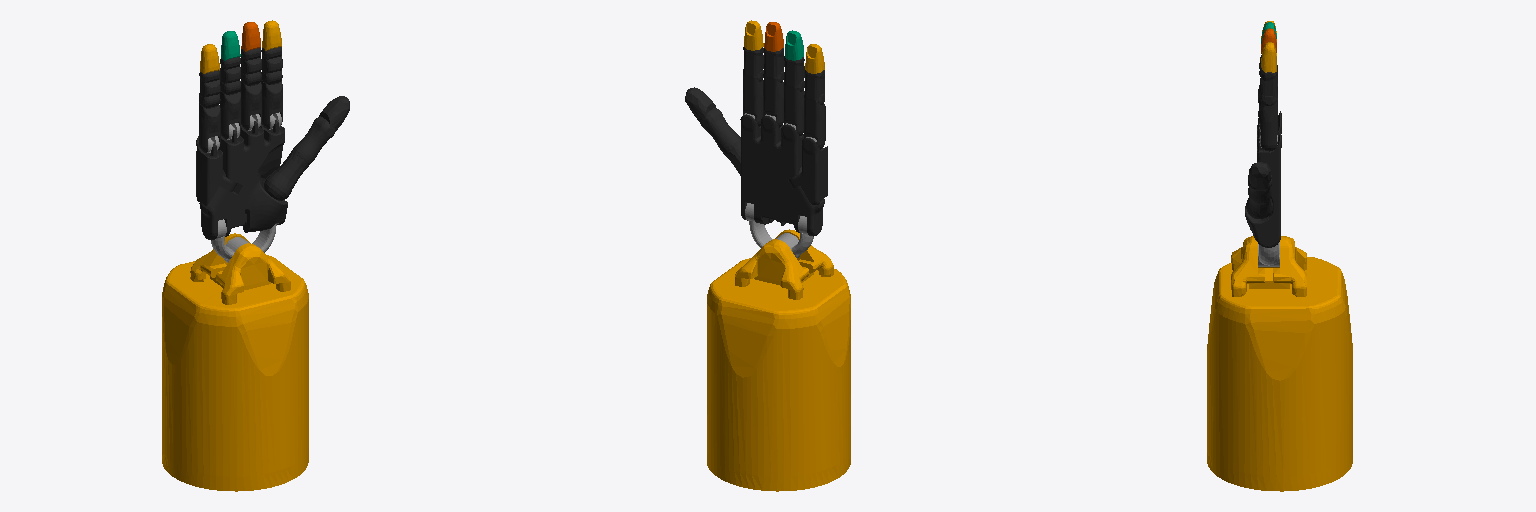
--- Render facts (derived) ---
Views: 3 orthographic renders of the robot side by side, from view 1: azimuth 30°, elevation 25°; view 2: azimuth 150°, elevation 25°; view 3: azimuth 270°, elevation 25°.
Model shadowhand_motor with 32 links and 31 joints (24 revolute, 7 fixed), rooted at rh_forearm, posed every joint at zero.
Links seen in each view (by area): view 1: rh_forearm, rh_palm, rh_lfmetacarpal, rh_thproximal, rh_wrist, rh_thmiddle, rh_lfproximal, rh_mfproximal, rh_ffproximal, rh_rfproximal, rh_mfmiddle, rh_lfmiddle (+3 smaller); view 2: rh_forearm, rh_palm, rh_lfmetacarpal, rh_wrist, rh_thmiddle, rh_lfproximal, rh_mfproximal, rh_rfproximal, rh_ffproximal, rh_thdistal, rh_mfmiddle, rh_rfmiddle (+2 smaller); view 3: rh_forearm, rh_palm, rh_ffproximal, rh_ffmiddle.
Boxes of the visible links, x1=… form: rh_forearm: x1=162, y1=233, x2=308, y2=491; rh_palm: x1=199, y1=120, x2=287, y2=240; rh_lfmetacarpal: x1=196, y1=136, x2=237, y2=205; rh_thproximal: x1=264, y1=149, x2=308, y2=200; rh_wrist: x1=211, y1=219, x2=278, y2=262; rh_thmiddle: x1=293, y1=116, x2=335, y2=164; rh_lfproximal: x1=199, y1=103, x2=220, y2=152; rh_mfproximal: x1=240, y1=81, x2=261, y2=130; rh_ffproximal: x1=261, y1=81, x2=282, y2=129; rh_rfproximal: x1=220, y1=92, x2=240, y2=139; rh_mfmiddle: x1=241, y1=48, x2=261, y2=85; rh_lfmiddle: x1=199, y1=70, x2=220, y2=108; rh_forearm: x1=707, y1=229, x2=850, y2=491; rh_palm: x1=740, y1=114, x2=824, y2=236; rh_lfmetacarpal: x1=788, y1=138, x2=827, y2=204; rh_wrist: x1=745, y1=203, x2=813, y2=257; rh_thmiddle: x1=700, y1=108, x2=740, y2=154; rh_lfproximal: x1=804, y1=99, x2=825, y2=149; rh_mfproximal: x1=763, y1=77, x2=783, y2=127; rh_rfproximal: x1=784, y1=85, x2=804, y2=135; rh_ffproximal: x1=743, y1=75, x2=762, y2=126; rh_thdistal: x1=685, y1=87, x2=715, y2=121; rh_mfmiddle: x1=763, y1=48, x2=784, y2=82; rh_rfmiddle: x1=784, y1=56, x2=804, y2=91; rh_forearm: x1=1207, y1=236, x2=1352, y2=491; rh_palm: x1=1245, y1=113, x2=1281, y2=247; rh_ffproximal: x1=1258, y1=99, x2=1277, y2=151; rh_ffmiddle: x1=1259, y1=70, x2=1277, y2=105.
Size in the robot's own frame: 0.1784 by 0.1351 by 0.4454 metres.
23 mesh visuals loaded from 11 distinct referenced files (11 binary STL).

URDF robot description (shadowhand_motor):
<?xml version="1.0" encoding="utf-8"?>
<!-- =================================================================================== -->
<!-- |    This document was autogenerated by xacro from [local-path]/projects/shadow_robot/base/src/sr_common/sr_description/robots/shadowhand_motor.urdf.xacro | -->
<!-- |    EDITING THIS FILE BY HAND IS NOT RECOMMENDED                                 | -->
<!-- =================================================================================== -->
<robot name="shadowhand_motor" xmlns:body="http://playerstage.sourceforge.net/gazebo/xmlschema/#body" xmlns:controller="http://playerstage.sourceforge.net/gazebo/xmlschema/#controller" xmlns:geom="http://playerstage.sourceforge.net/gazebo/xmlschema/#geom" xmlns:interface="http://playerstage.sourceforge.net/gazebo/xmlschema/#interface" xmlns:joint="http://playerstage.sourceforge.net/gazebo/xmlschema/#slider" xmlns:sensor="http://playerstage.sourceforge.net/gazebo/xmlschema/#sensor">
  <material name="Blue">
    <color rgba="0.0 0.0 0.8 1.0"/>
  </material>
  <material name="Green">
    <color rgba="0.0 0.8 0.0 1.0"/>
  </material>
  <material name="BiotacGreen">
    <color rgba="0.31 0.85 0.42 1.0"/>
  </material>
  <material name="Grey">
    <color rgba="0.2 0.2 0.2 1.0"/>
  </material>
  <material name="LightGrey">
    <color rgba="0.6 0.6 0.6 1.0"/>
  </material>
  <material name="Red">
    <color rgba="0.8 0.0 0.0 1.0"/>
  </material>
  <material name="White">
    <color rgba="1.0 1.0 1.0 1.0"/>
  </material>
  <gazebo>
    <plugin filename="libgazebo_ros_control.so" name="gazebo_ros_control">
      <robotSimType>sr_gazebo_sim/SrGazeboHWSim</robotSimType>
    </plugin>
  </gazebo>
  <!-- hand with cylindrical base drifts in gazebo, attach it to the world -->
  <!--<link name="world"/>
  <joint name="rh_world_joint" type="fixed">
    <parent link="world"/>
    <child link="rh_forearm"/>
    <origin rpy="0.0 0.0 0.0" xyz="0.0 0.0 0.0"/>
  </joint>-->
  <link name="rh_forearm">
    <inertial>
      <origin rpy="0 0 0" xyz="0 0 0.09"/>
      <mass value="3.0"/>
      <inertia ixx="0.0138" ixy="0.0" ixz="0.0" iyy="0.0138" iyz="0.0" izz="0.00744"/>
    </inertial>
    <visual>
      <origin rpy="0 0 0" xyz="0 0 0"/>
      <geometry name="rh_forearm_visual">
        <mesh filename="package://sr_description/meshes/hand/forearm.stl" scale="0.001 0.001 0.001"/>
      </geometry>
      <material name="light_grey"/>
    </visual>
    <collision>
      <origin rpy="0 0 0" xyz="0 0 0.092"/>
      <geometry name="rh_forearm_collision">
        <cylinder length="0.184" radius="0.07"/>
      </geometry>
      <material name="dark_grey">
        <color rgba="0.21961 0.21961 0.21961 1.0"/>
      </material>
    </collision>
    <!-- wrist mount -->
    <collision>
      <origin rpy="0 0.78 0" xyz="0 -0.01 0.181"/>
      <geometry>
        <box size="0.07 0.07 0.07"/>
      </geometry>
    </collision>
  </link>
  <gazebo reference="rh_forearm">
    <selfCollide>false</selfCollide>
  </gazebo>
  <link name="rh_wrist">
    <inertial>
      <origin rpy="0 0 0" xyz="0 0 0.029"/>
      <mass value="0.1"/>
      <inertia ixx="0.000035" ixy="0.0" ixz="0.0" iyy="0.000064" iyz="0.0" izz="0.0000438"/>
    </inertial>
    <visual>
      <origin rpy="0 0 0" xyz="0 0 0"/>
      <geometry name="rh_wrist_visual">
        <mesh filename="package://sr_description/meshes/hand/wrist.stl" scale="0.001 0.001 0.001"/>
      </geometry>
      <material name="LightGrey"/>
    </visual>
    <collision>
      <origin rpy="1.5708 1.5708 0" xyz="0 0 0"/>
      <geometry name="rh_wrist_collision_geom">
        <cylinder length="0.030" radius="0.0135"/>
      </geometry>
    </collision>
    <collision>
      <origin rpy="0 1.5708 0" xyz="-0.026 0 0.034"/>
      <geometry>
        <cylinder length="0.010" radius="0.011"/>
      </geometry>
    </collision>
    <collision>
      <origin rpy="0 1.5708 0" xyz="0.031 0 0.034"/>
      <geometry>
        <cylinder length="0.010" radius="0.011"/>
      </geometry>
    </collision>
    <collision>
      <origin rpy="0 0.7854 0" xyz="-0.021 0 0.011"/>
      <geometry>
        <box size="0.027 0.018 0.010"/>
      </geometry>
    </collision>
    <collision>
      <origin rpy="0 -0.7854 0" xyz="0.026 0 0.010"/>
      <geometry>
        <box size="0.027 0.018 0.010"/>
      </geometry>
    </collision>
  </link>
  <gazebo reference="rh_wrist">
    <material>Gazebo/White</material>
    <selfCollide>false</selfCollide>
  </gazebo>
  <joint name="rh_WRJ2" type="revolute">
    <parent link="rh_forearm"/>
    <child link="rh_wrist"/>
    <origin rpy="0 0 0" xyz="0 -0.010 0.213"/>
    <axis xyz="0 1.0 0"/>
    <limit effort="10" lower="-0.523598775598" upper="0.174532925199" velocity="2.0"/>
    <dynamics damping="0.1"/>
  </joint>
  <gazebo reference="rh_WRJ2">
    <provideFeedback>1</provideFeedback>
    <implicitSpringDamper>1</implicitSpringDamper>
  </gazebo>
  <transmission name="rh_wrist_transmission">
    <type>sr_mechanism_model/SimpleTransmission</type>
    <actuator name="rh_WRJ2">
      <mechanicalReduction>1</mechanicalReduction>
    </actuator>
    <joint name="rh_WRJ2">
      <hardwareInterface>EffortJointInterface</hardwareInterface>
      <hardwareInterface>PositionJointInterface</hardwareInterface>
    </joint>
  </transmission>
  <link name="rh_palm">
    <inertial>
      <origin rpy="0 0 0" xyz="0 0 0.035"/>
      <mass value="0.3"/>
      <inertia ixx="0.0003581" ixy="0.0" ixz="0.0" iyy="0.0005287" iyz="0.0" izz="0.000191"/>
    </inertial>
    <visual>
      <origin rpy="0 0 0" xyz="0 0 0"/>
      <geometry name="rh_palm_visual">
        <mesh filename="package://sr_description/meshes/hand/palm.stl" scale="0.001 0.001 0.001"/>
      </geometry>
      <material name="Grey"/>
    </visual>
    <collision>
      <origin rpy="0 0 0" xyz="0.011 0.0085 0.038"/>
      <geometry name="rh_palm_collision_geom">
        <box size="0.062 0.007 0.098"/>
      </geometry>
    </collision>
    <collision>
      <origin rpy="0 0 0" xyz="-0.002 -0.0035 0.038"/>
      <geometry>
        <box size="0.036 0.017 0.098"/>
      </geometry>
    </collision>
    <!-- palm complement below first finger -->
    <collision>
      <origin rpy="0 0 0" xyz="0.029 -0.0035 0.082"/>
      <geometry>
        <box size="0.026 0.017 0.010"/>
      </geometry>
    </collision>
    <collision>
      <origin rpy="0.2 0 0.25" xyz="0.0265 -0.001 0.070"/>
      <geometry>
        <box size="0.026 0.014 0.018"/>
      </geometry>
    </collision>
    <!-- thumb pulp side -->
    <collision>
      <origin rpy="0 0 0" xyz="0.0315 -0.0085 0.001"/>
      <geometry>
        <box size="0.021 0.027 0.024"/>
      </geometry>
    </collision>
    <!-- thumb pulp central -->
    <collision>
      <origin rpy="0 0 -0.48" xyz="0.0125 -0.015 0.009"/>
      <geometry>
        <box size="0.022 0.005 0.040"/>
      </geometry>
    </collision>
    <!-- above middle finger-->
    <collision>
      <origin rpy="0 0 0" xyz="0.011 0 0.089"/>
      <geometry>
        <box size="0.018 0.024 0.004"/>
      </geometry>
    </collision>
    <!-- metacarpal side-->
    <collision>
      <origin rpy="0 0 0" xyz="-0.03 0 0.009"/>
      <geometry>
        <box size="0.020 0.024 0.040"/>
      </geometry>
    </collision>
  </link>
  <joint name="rh_ee_fixed_joint" type="fixed">
    <parent link="rh_palm"/>
    <child link="rh_manipulator"/>
    <origin rpy="0.0 0.0 0.0" xyz="0.0 0.0 0.05"/>
  </joint>
  <link name="rh_manipulator"/>
  <joint name="rh_WRJ1" type="revolute">
    <parent link="rh_wrist"/>
    <child link="rh_palm"/>
    <origin rpy="0 0 0" xyz="0 0 0.034"/>
    <axis xyz="1 0 0"/>
    <limit effort="30" lower="-0.698131700798" upper="0.488692190558" velocity="2.0"/>
    <dynamics damping="0.1"/>
  </joint>
  <gazebo reference="rh_WRJ1">
    <provideFeedback>1</provideFeedback>
    <implicitSpringDamper>1</implicitSpringDamper>
  </gazebo>
  <link name="rh_imu"/>
  <joint name="rh_palm_to_imu" type="fixed">
    <parent link="rh_palm"/>
    <child link="rh_imu"/>
    <origin rpy="-1.5707963 3.141592 0.0" xyz="0.01785 0.00765 0.049125"/>
  </joint>
  <sensor name="rh_imu" update_rate="100">
    <parent link="rh_imu"/>
    <origin rpy="0 0 0" xyz="0 0 0"/>
    <imu/>
  </sensor>
  <transmission name="rh_palm_transmission">
    <type>sr_mechanism_model/SimpleTransmission</type>
    <actuator name="rh_WRJ1">
      <mechanicalReduction>1</mechanicalReduction>
    </actuator>
    <joint name="rh_WRJ1">
      <hardwareInterface>EffortJointInterface</hardwareInterface>
      <hardwareInterface>PositionJointInterface</hardwareInterface>
    </joint>
  </transmission>
  <!-- prefix can be anything but usually is "r_" or  "l_" for right and left hands distinction -->
  <gazebo reference="rh_palm">
    <sensor name="rh_palm_contact" type="contact">
      <always_on>1</always_on>
      <update_rate>1000.0</update_rate>
      <contact>
        <collision>rh_palm_collision</collision>
        <topic>rh_palm_collision</topic>
      </contact>
      <plugin filename="libgazebo_ros_bumper.so" name="rh_palm_gazebo_ros_bumper_controller">
        <alwaysOn>true</alwaysOn>
        <frameName>rh_palm</frameName>
        <updateRate>100.0</updateRate>
        <bumperTopicName>contacts/rh_palm</bumperTopicName>
      </plugin>
    </sensor>
  </gazebo>
  <link name="rh_ffknuckle">
    <inertial>
      <origin rpy="0 0 0" xyz="0 0 0"/>
      <mass value="0.008"/>
      <inertia ixx="0.00000026" ixy="0.0" ixz="0.0" iyy="0.00000026" iyz="0.0" izz="0.00000032"/>
    </inertial>
    <visual>
      <origin rpy="0 0 0" xyz="0 0 0.0005"/>
      <geometry name="rh_ffknuckle_visual">
        <mesh filename="package://sr_description/meshes/hand/knuckle.stl" scale="0.001 0.001 0.001"/>
      </geometry>
      <material name="LightGrey"/>
    </visual>
    <collision>
      <origin rpy="0 1.5708 0" xyz="0 0 0"/>
      <geometry name="rh_ffknuckle_collision_geom">
        <cylinder length="0.014" radius="0.007"/>
      </geometry>
    </collision>
  </link>
  <joint name="rh_FFJ4" type="revolute">
    <parent link="rh_palm"/>
    <child link="rh_ffknuckle"/>
    <!--<origin xyz="0.033 0 0.095" rpy="0 0 0" />-->
    <origin rpy="0 0 0" xyz="0.033 0 0.095"/>
    <axis xyz="0 -1.0 0"/>
    <limit effort="2" lower="-0.349065850399" upper="0.349065850399" velocity="2.0"/>
    <dynamics damping="0.1"/>
  </joint>
  <gazebo reference="rh_FFJ4">
    <provideFeedback>1</provideFeedback>
    <implicitSpringDamper>1</implicitSpringDamper>
  </gazebo>
  <transmission name="rh_ffknuckle_transmission">
    <type>sr_mechanism_model/SimpleTransmission</type>
    <actuator name="rh_FFJ4">
      <mechanicalReduction>1</mechanicalReduction>
    </actuator>
    <joint name="rh_FFJ4">
      <hardwareInterface>EffortJointInterface</hardwareInterface>
      <hardwareInterface>PositionJointInterface</hardwareInterface>
    </joint>
  </transmission>
  <!-- prefix can be anything but usually is "r_" or  "l_" for right and left hands distinction -->
  <gazebo reference="rh_ffknuckle">
    <sensor name="rh_ffknuckle_contact" type="contact">
      <always_on>1</always_on>
      <update_rate>1000.0</update_rate>
      <contact>
        <collision>rh_ffknuckle_collision</collision>
        <topic>rh_ffknuckle_collision</topic>
      </contact>
      <plugin filename="libgazebo_ros_bumper.so" name="rh_ffknuckle_gazebo_ros_bumper_controller">
        <alwaysOn>true</alwaysOn>
        <frameName>rh_ffknuckle</frameName>
        <updateRate>100.0</updateRate>
        <bumperTopicName>contacts/rh_ff/knuckle</bumperTopicName>
      </plugin>
    </sensor>
    <material>Gazebo/Grey</material>
  </gazebo>
  <link name="rh_ffproximal">
    <inertial>
      <mass value="0.030"/>
      <origin xyz="0 0 0.0225"/>
      <inertia ixx="0.0000098" ixy="0.0" ixz="0.0" iyy="0.00001" iyz="0.0" izz="0.0000018"/>
    </inertial>
    <visual>
      <origin rpy="0 0 0" xyz="0 0 0"/>
      <geometry name="rh_ffproximal_visual">
        <mesh filename="package://sr_description/meshes/hand/F3.stl" scale="0.001 0.001 0.001"/>
      </geometry>
      <material name="Grey"/>
    </visual>
    <collision>
      <origin rpy="0 0 0" xyz="0 0 0.025"/>
      <geometry name="rh_ffproximal_collision_geom">
        <cylinder length="0.040" radius="0.007"/>
      </geometry>
    </collision>
  </link>
  <joint name="rh_FFJ3" type="revolute">
    <parent link="rh_ffknuckle"/>
    <child link="rh_ffproximal"/>
    <origin rpy="0 0 0" xyz="0 0 0"/>
    <axis xyz="1 0 0"/>
    <limit effort="2" lower="-0.261799387799" upper="1.57079632679" velocity="2.0"/>
    <dynamics damping="0.1"/>
  </joint>
  <gazebo reference="rh_FFJ3">
    <provideFeedback>1</provideFeedback>
    <implicitSpringDamper>1</implicitSpringDamper>
  </gazebo>
  <transmission name="rh_ffproximal_transmission">
    <type>sr_mechanism_model/SimpleTransmission</type>
    <actuator name="rh_FFJ3">
      <mechanicalReduction>1</mechanicalReduction>
    </actuator>
    <joint name="rh_FFJ3">
      <hardwareInterface>EffortJointInterface</hardwareInterface>
      <hardwareInterface>PositionJointInterface</hardwareInterface>
    </joint>
  </transmission>
  <!-- prefix can be anything but usually is "r_" or  "l_" for right and left hands distinction -->
  <gazebo reference="rh_ffproximal">
    <sensor name="rh_ffproximal_contact" type="contact">
      <always_on>1</always_on>
      <update_rate>1000.0</update_rate>
      <contact>
        <collision>rh_ffproximal_collision</collision>
        <topic>rh_ffproximal_collision</topic>
      </contact>
      <plugin filename="libgazebo_ros_bumper.so" name="rh_ffproximal_gazebo_ros_bumper_controller">
        <alwaysOn>true</alwaysOn>
        <frameName>rh_ffproximal</frameName>
        <updateRate>100.0</updateRate>
        <bumperTopicName>contacts/rh_ff/proximal</bumperTopicName>
      </plugin>
    </sensor>
    <selfCollide>true</selfCollide>
  </gazebo>
  <link name="rh_ffmiddle">
    <inertial>
      <origin rpy="0 0 0" xyz="0 0 0.0125"/>
      <mass value="0.017"/>
      <inertia ixx="0.0000026" ixy="0.0" ixz="0.0" iyy="0.0000027" iyz="0.0" izz="0.00000087"/>
    </inertial>
    <visual>
      <origin rpy="0 0 0" xyz="0 0 0"/>
      <geometry name="rh_ffmiddle_visual">
        <mesh filename="package://sr_description/meshes/hand/F2.stl" scale="0.001 0.001 0.001"/>
      </geometry>
      <material name="Grey"/>
    </visual>
    <collision>
      <origin rpy="0 0 0" xyz="0 0 0.0125"/>
      <geometry name="rh_ffmiddle_collision_geom">
        <cylinder length="0.025" radius="0.007"/>
      </geometry>
    </collision>
    <collision>
      <origin rpy="0 0 0" xyz="0 0 0.0"/>
      <geometry>
        <sphere radius="0.007"/>
      </geometry>
    </collision>
    <collision>
      <origin rpy="0 0 0" xyz="0 0 0.025"/>
      <geometry>
        <sphere radius="0.007"/>
      </geometry>
    </collision>
  </link>
  <joint name="rh_FFJ2" type="revolute">
    <parent link="rh_ffproximal"/>
    <child link="rh_ffmiddle"/>
    <origin rpy="0 0 0" xyz="0 0 0.045"/>
    <axis xyz="1 0 0"/>
    <limit effort="2" lower="0" upper="1.57079632679" velocity="2.0"/>
    <dynamics damping="0.1"/>
  </joint>
  <gazebo reference="rh_FFJ2">
    <provideFeedback>1</provideFeedback>
    <implicitSpringDamper>1</implicitSpringDamper>
  </gazebo>
  <transmission name="rh_ffmiddle_transmission">
    <type>sr_mechanism_model/J0Transmission</type>
    <actuator name="rh_FFJ0">
      <mechanicalReduction>1</mechanicalReduction>
    </actuator>
    <joint name="rh_FFJ1">
      <hardwareInterface>EffortJointInterface</hardwareInterface>
      <hardwareInterface>PositionJointInterface</hardwareInterface>
    </joint>
    <secondJoint name="rh_FFJ2"/>
  </transmission>
  <!-- prefix can be anything but usually is "r_" or  "l_" for right and left hands distinction -->
  <gazebo reference="rh_ffmiddle">
    <sensor name="rh_ffmiddle_contact" type="contact">
      <always_on>1</always_on>
      <update_rate>1000.0</update_rate>
      <contact>
        <collision>rh_ffmiddle_collision</collision>
        <topic>rh_ffmiddle_collision</topic>
      </contact>
      <plugin filename="libgazebo_ros_bumper.so" name="rh_ffproximal_gazebo_ros_bumper_controller">
        <alwaysOn>true</alwaysOn>
        <frameName>rh_ffmiddle</frameName>
        <updateRate>100.0</updateRate>
        <bumperTopicName>contacts/rh_ff/middle</bumperTopicName>
      </plugin>
    </sensor>
    <selfCollide>true</selfCollide>
  </gazebo>
  <link name="rh_ffdistal">
    <inertial>
      <mass value="0.012"/>
      <origin xyz="0 0 0.012"/>
      <inertia ixx="0.00000094" ixy="0.0" ixz="0.0" iyy="0.0000011" iyz="0.0" izz="0.00000053"/>
    </inertial>
    <visual>
      <origin rpy="0 0 0" xyz="0 0 0"/>
      <geometry name="rh_ffdistal_visual">
        <!-- Standard distal  -->
        <mesh filename="package://sr_description/meshes/hand/F1.stl" scale="0.001 0.001 0.001"/>
      </geometry>
      <!-- <material name="Grey" /> -->
    </visual>
    <collision>
      <origin rpy="0 0 0" xyz="0 0 0"/>
      <geometry name="rh_ffdistal_collision_geom">
        <!-- Standard distal  -->
        <mesh filename="package://sr_description/meshes/hand/F1.stl" scale="0.001 0.001 0.001"/>
      </geometry>
    </collision>
  </link>
  <joint name="rh_FFJ1" type="revolute">
    <parent link="rh_ffmiddle"/>
    <child link="rh_ffdistal"/>
    <origin rpy="0 0 0" xyz="0 0 0.025"/>
    <axis xyz="1 0 0"/>
    <!-- standard distal joint -->
    <limit effort="2" lower="0" upper="1.57079632679" velocity="2.0"/>
    <dynamics damping="0.1"/>
  </joint>
  <gazebo reference="rh_FFJ1">
    <provideFeedback>1</provideFeedback>
    <implicitSpringDamper>1</implicitSpringDamper>
  </gazebo>
  <link name="rh_fftip">
    <inertial>
      <mass value="0.001"/>
      <inertia ixx="0.0" ixy="0.0" ixz="0.0" iyy="0.0" iyz="0.0" izz="0.0"/>
    </inertial>
  </link>
  <joint name="rh_FFtip" type="fixed">
    <parent link="rh_ffdistal"/>
    <child link="rh_fftip"/>
    <origin rpy="0 0 0" xyz="0 0 0.026"/>
  </joint>
  <!-- prefix can be anything but usually is "r_" or  "l_" for right and left hands distinction -->
  <gazebo reference="rh_ffdistal">
    <sensor name="rh_ffdistal_contact" type="contact">
      <always_on>1</always_on>
      <update_rate>1000.0</update_rate>
      <contact>
        <collision>rh_ffdistal_collision</collision>
        <topic>rh_ffdistal_collision</topic>
      </contact>
      <plugin filename="libgazebo_ros_bumper.so" name="rh_ffdistal_gazebo_ros_bumper_controller">
        <alwaysOn>true</alwaysOn>
        <frameName>rh_ffdistal</frameName>
        <updateRate>100.0</updateRate>
        <bumperTopicName>contacts/rh_ff/distal</bumperTopicName>
      </plugin>
    </sensor>
    <mu1 value="500.0"/>
    <mu2 value="500.0"/>
    <kp value="10000000.0"/>
    <kd value="1.0"/>
    <selfCollide>true</selfCollide>
  </gazebo>
  <link name="rh_mfknuckle">
    <inertial>
      <origin rpy="0 0 0" xyz="0 0 0"/>
      <mass value="0.008"/>
      <inertia ixx="0.00000026" ixy="0.0" ixz="0.0" iyy="0.00000026" iyz="0.0" izz="0.00000032"/>
    </inertial>
    <visual>
      <origin rpy="0 0 0" xyz="0 0 0.0005"/>
      <geometry name="rh_mfknuckle_visual">
        <mesh filename="package://sr_description/meshes/hand/knuckle.stl" scale="0.001 0.001 0.001"/>
      </geometry>
      <material name="LightGrey"/>
    </visual>
    <collision>
      <origin rpy="0 1.5708 0" xyz="0 0 0"/>
      <geometry name="rh_mfknuckle_collision_geom">
        <cylinder length="0.014" radius="0.007"/>
      </geometry>
    </collision>
  </link>
  <joint name="rh_MFJ4" type="revolute">
    <parent link="rh_palm"/>
    <child link="rh_mfknuckle"/>
    <!--<origin xyz="0.033 0 0.095" rpy="0 0 0" />-->
    <origin rpy="0 0 0" xyz="0.011 0 0.099"/>
    <axis xyz="0 -1.0 0"/>
    <limit effort="2" lower="-0.349065850399" upper="0.349065850399" velocity="2.0"/>
    <dynamics damping="0.1"/>
  </joint>
  <gazebo reference="rh_MFJ4">
    <provideFeedback>1</provideFeedback>
    <implicitSpringDamper>1</implicitSpringDamper>
  </gazebo>
  <transmission name="rh_mfknuckle_transmission">
    <type>sr_mechanism_model/SimpleTransmission</type>
    <actuator name="rh_MFJ4">
      <mechanicalReduction>1</mechanicalReduction>
    </actuator>
    <joint name="rh_MFJ4">
      <hardwareInterface>EffortJointInterface</hardwareInterface>
      <hardwareInterface>PositionJointInterface</hardwareInterface>
    </joint>
  </transmission>
  <!-- prefix can be anything but usually is "r_" or  "l_" for right and left hands distinction -->
  <gazebo reference="rh_mfknuckle">
    <sensor name="rh_mfknuckle_contact" type="contact">
      <always_on>1</always_on>
      <update_rate>1000.0</update_rate>
      <contact>
        <collision>rh_mfknuckle_collision</collision>
        <topic>rh_mfknuckle_collision</topic>
      </contact>
      <plugin filename="libgazebo_ros_bumper.so" name="rh_mfknuckle_gazebo_ros_bumper_controller">
        <alwaysOn>true</alwaysOn>
        <frameName>rh_mfknuckle</frameName>
        <updateRate>100.0</updateRate>
        <bumperTopicName>contacts/rh_mf/knuckle</bumperTopicName>
      </plugin>
    </sensor>
    <material>Gazebo/Grey</material>
  </gazebo>
  <link name="rh_mfproximal">
    <inertial>
      <mass value="0.030"/>
      <origin xyz="0 0 0.0225"/>
      <inertia ixx="0.0000098" ixy="0.0" ixz="0.0" iyy="0.00001" iyz="0.0" izz="0.0000018"/>
    </inertial>
    <visual>
      <origin rpy="0 0 0" xyz="0 0 0"/>
      <geometry name="rh_mfproximal_visual">
        <mesh filename="package://sr_description/meshes/hand/F3.stl" scale="0.001 0.001 0.001"/>
      </geometry>
      <material name="Grey"/>
    </visual>
    <collision>
      <origin rpy="0 0 0" xyz="0 0 0.025"/>
      <geometry name="rh_mfproximal_collision_geom">
        <cylinder length="0.040" radius="0.007"/>
      </geometry>
    </collision>
  </link>
  <joint name="rh_MFJ3" type="revolute">
    <parent link="rh_mfknuckle"/>
    <child link="rh_mfproximal"/>
    <origin rpy="0 0 0" xyz="0 0 0"/>
    <axis xyz="1 0 0"/>
    <limit effort="2" lower="-0.261799387799" upper="1.57079632679" velocity="2.0"/>
    <dynamics damping="0.1"/>
  </joint>
  <gazebo reference="rh_MFJ3">
    <provideFeedback>1</provideFeedback>
    <implicitSpringDamper>1</implicitSpringDamper>
  </gazebo>
  <transmission name="rh_mfproximal_transmission">
    <type>sr_mechanism_model/SimpleTransmission</type>
    <actuator name="rh_MFJ3">
      <mechanicalReduction>1</mechanicalReduction>
    </actuator>
    <joint name="rh_MFJ3">
      <hardwareInterface>EffortJointInterface</hardwareInterface>
      <hardwareInterface>PositionJointInterface</hardwareInterface>
    </joint>
  </transmission>
  <!-- prefix can be anything but usually is "r_" or  "l_" for right and left hands distinction -->
  <gazebo reference="rh_mfproximal">
    <sensor name="rh_mfproximal_contact" type="contact">
      <always_on>1</always_on>
      <update_rate>1000.0</update_rate>
      <contact>
        <collision>rh_mfproximal_collision</collision>
        <topic>rh_mfproximal_collision</topic>
      </contact>
      <plugin filename="libgazebo_ros_bumper.so" name="rh_mfproximal_gazebo_ros_bumper_controller">
        <alwaysOn>true</alwaysOn>
        <frameName>rh_mfproximal</frameName>
        <updateRate>100.0</updateRate>
        <bumperTopicName>contacts/rh_mf/proximal</bumperTopicName>
      </plugin>
    </sensor>
    <selfCollide>true</selfCollide>
  </gazebo>
  <link name="rh_mfmiddle">
    <inertial>
      <origin rpy="0 0 0" xyz="0 0 0.0125"/>
      <mass value="0.017"/>
      <inertia ixx="0.0000026" ixy="0.0" ixz="0.0" iyy="0.0000027" iyz="0.0" izz="0.00000087"/>
    </inertial>
    <visual>
      <origin rpy="0 0 0" xyz="0 0 0"/>
      <geometry name="rh_mfmiddle_visual">
        <mesh filename="package://sr_description/meshes/hand/F2.stl" scale="0.001 0.001 0.001"/>
      </geometry>
      <material name="Grey"/>
    </visual>
    <collision>
      <origin rpy="0 0 0" xyz="0 0 0.0125"/>
      <geometry name="rh_mfmiddle_collision_geom">
        <cylinder length="0.025" radius="0.007"/>
      </geometry>
    </collision>
    <collision>
      <origin rpy="0 0 0" xyz="0 0 0.0"/>
      <geometry>
        <sphere radius="0.007"/>
      </geometry>
    </collision>
    <collision>
      <origin rpy="0 0 0" xyz="0 0 0.025"/>
      <geometry>
        <sphere radius="0.007"/>
      </geometry>
    </collision>
  </link>
  <joint name="rh_MFJ2" type="revolute">
    <parent link="rh_mfproximal"/>
    <child link="rh_mfmiddle"/>
    <origin rpy="0 0 0" xyz="0 0 0.045"/>
    <axis xyz="1 0 0"/>
    <limit effort="2" lower="0" upper="1.57079632679" velocity="2.0"/>
    <dynamics damping="0.1"/>
  </joint>
  <gazebo reference="rh_MFJ2">
    <provideFeedback>1</provideFeedback>
    <implicitSpringDamper>1</implicitSpringDamper>
  </gazebo>
  <transmission name="rh_mfmiddle_transmission">
    <type>sr_mechanism_model/J0Transmission</type>
    <actuator name="rh_MFJ0">
      <mechanicalReduction>1</mechanicalReduction>
    </actuator>
    <joint name="rh_MFJ1">
      <hardwareInterface>EffortJointInterface</hardwareInterface>
      <hardwareInterface>PositionJointInterface</hardwareInterface>
    </joint>
    <secondJoint name="rh_MFJ2"/>
  </transmission>
  <!-- prefix can be anything but usually is "r_" or  "l_" for right and left hands distinction -->
  <gazebo reference="rh_mfmiddle">
    <sensor name="rh_mfmiddle_contact" type="contact">
      <always_on>1</always_on>
      <update_rate>1000.0</update_rate>
      <contact>
        <collision>rh_mfmiddle_collision</collision>
        <topic>rh_mfmiddle_collision</topic>
      </contact>
      <plugin filename="libgazebo_ros_bumper.so" name="rh_mfproximal_gazebo_ros_bumper_controller">
        <alwaysOn>true</alwaysOn>
        <frameName>rh_mfmiddle</frameName>
        <updateRate>100.0</updateRate>
        <bumperTopicName>contacts/rh_mf/middle</bumperTopicName>
      </plugin>
    </sensor>
    <selfCollide>true</selfCollide>
  </gazebo>
  <link name="rh_mfdistal">
    <inertial>
      <mass value="0.012"/>
      <origin xyz="0 0 0.012"/>
      <inertia ixx="0.00000094" ixy="0.0" ixz="0.0" iyy="0.0000011" iyz="0.0" izz="0.00000053"/>
    </inertial>
    <visual>
      <origin rpy="0 0 0" xyz="0 0 0"/>
      <geometry name="rh_mfdistal_visual">
        <!-- Standard distal  -->
        <mesh filename="package://sr_description/meshes/hand/F1.stl" scale="0.001 0.001 0.001"/>
      </geometry>
      <!-- <material name="Grey" /> -->
    </visual>
    <collision>
      <origin rpy="0 0 0" xyz="0 0 0"/>
      <geometry name="rh_mfdistal_collision_geom">
        <!-- Standard distal  -->
        <mesh filename="package://sr_description/meshes/hand/F1.stl" scale="0.001 0.001 0.001"/>
      </geometry>
    </collision>
  </link>
  <joint name="rh_MFJ1" type="revolute">
    <parent link="rh_mfmiddle"/>
    <child link="rh_mfdistal"/>
    <origin rpy="0 0 0" xyz="0 0 0.025"/>
    <axis xyz="1 0 0"/>
    <!-- standard distal joint -->
    <limit effort="2" lower="0" upper="1.57079632679" velocity="2.0"/>
    <dynamics damping="0.1"/>
  </joint>
  <gazebo reference="rh_MFJ1">
    <provideFeedback>1</provideFeedback>
    <implicitSpringDamper>1</implicitSpringDamper>
  </gazebo>
  <link name="rh_mftip">
    <inertial>
      <mass value="0.001"/>
      <inertia ixx="0.0" ixy="0.0" ixz="0.0" iyy="0.0" iyz="0.0" izz="0.0"/>
    </inertial>
  </link>
  <joint name="rh_MFtip" type="fixed">
    <parent link="rh_mfdistal"/>
    <child link="rh_mftip"/>
    <origin rpy="0 0 0" xyz="0 0 0.026"/>
  </joint>
  <!-- prefix can be anything but usually is "r_" or  "l_" for right and left hands distinction -->
  <gazebo reference="rh_mfdistal">
    <sensor name="rh_mfdistal_contact" type="contact">
      <always_on>1</always_on>
      <update_rate>1000.0</update_rate>
      <contact>
        <collision>rh_mfdistal_collision</collision>
        <topic>rh_mfdistal_collision</topic>
      </contact>
      <plugin filename="libgazebo_ros_bumper.so" name="rh_mfdistal_gazebo_ros_bumper_controller">
        <alwaysOn>true</alwaysOn>
        <frameName>rh_mfdistal</frameName>
        <updateRate>100.0</updateRate>
        <bumperTopicName>contacts/rh_mf/distal</bumperTopicName>
      </plugin>
    </sensor>
    <mu1 value="500.0"/>
    <mu2 value="500.0"/>
    <kp value="10000000.0"/>
    <kd value="1.0"/>
    <selfCollide>true</selfCollide>
  </gazebo>
  <link name="rh_rfknuckle">
    <inertial>
      <origin rpy="0 0 0" xyz="0 0 0"/>
      <mass value="0.008"/>
      <inertia ixx="0.00000026" ixy="0.0" ixz="0.0" iyy="0.00000026" iyz="0.0" izz="0.00000032"/>
    </inertial>
    <visual>
      <origin rpy="0 0 0" xyz="0 0 0.0005"/>
      <geometry name="rh_rfknuckle_visual">
        <mesh filename="package://sr_description/meshes/hand/knuckle.stl" scale="0.001 0.001 0.001"/>
      </geometry>
      <material name="LightGrey"/>
    </visual>
    <collision>
      <origin rpy="0 1.5708 0" xyz="0 0 0"/>
      <geometry name="rh_rfknuckle_collision_geom">
        <cylinder length="0.014" radius="0.007"/>
      </geometry>
    </collision>
  </link>
  <joint name="rh_RFJ4" type="revolute">
    <parent link="rh_palm"/>
    <child link="rh_rfknuckle"/>
    <!--<origin xyz="0.033 0 0.095" rpy="0 0 0" />-->
    <origin rpy="0 0 0" xyz="-0.011 0 0.095"/>
    <axis xyz="0 1.0 0"/>
    <limit effort="2" lower="-0.349065850399" upper="0.349065850399" velocity="2.0"/>
    <dynamics damping="0.1"/>
  </joint>
  <gazebo reference="rh_RFJ4">
    <provideFeedback>1</provideFeedback>
    <implicitSpringDamper>1</implicitSpringDamper>
  </gazebo>
  <transmission name="rh_rfknuckle_transmission">
    <type>sr_mechanism_model/SimpleTransmission</type>
    <actuator name="rh_RFJ4">
      <mechanicalReduction>1</mechanicalReduction>
    </actuator>
    <joint name="rh_RFJ4">
      <hardwareInterface>EffortJointInterface</hardwareInterface>
      <hardwareInterface>PositionJointInterface</hardwareInterface>
    </joint>
  </transmission>
  <!-- prefix can be anything but usually is "r_" or  "l_" for right and left hands distinction -->
  <gazebo reference="rh_rfknuckle">
    <sensor name="rh_rfknuckle_contact" type="contact">
      <always_on>1</always_on>
      <update_rate>1000.0</update_rate>
      <contact>
        <collision>rh_rfknuckle_collision</collision>
        <topic>rh_rfknuckle_collision</topic>
      </contact>
      <plugin filename="libgazebo_ros_bumper.so" name="rh_rfknuckle_gazebo_ros_bumper_controller">
        <alwaysOn>true</alwaysOn>
        <frameName>rh_rfknuckle</frameName>
        <updateRate>100.0</updateRate>
        <bumperTopicName>contacts/rh_rf/knuckle</bumperTopicName>
      </plugin>
    </sensor>
    <material>Gazebo/Grey</material>
  </gazebo>
  <link name="rh_rfproximal">
    <inertial>
      <mass value="0.030"/>
      <origin xyz="0 0 0.0225"/>
      <inertia ixx="0.0000098" ixy="0.0" ixz="0.0" iyy="0.00001" iyz="0.0" izz="0.0000018"/>
    </inertial>
    <visual>
      <origin rpy="0 0 0" xyz="0 0 0"/>
      <geometry name="rh_rfproximal_visual">
        <mesh filename="package://sr_description/meshes/hand/F3.stl" scale="0.001 0.001 0.001"/>
      </geometry>
      <material name="Grey"/>
    </visual>
    <collision>
      <origin rpy="0 0 0" xyz="0 0 0.025"/>
      <geometry name="rh_rfproximal_collision_geom">
        <cylinder length="0.040" radius="0.007"/>
      </geometry>
    </collision>
  </link>
  <joint name="rh_RFJ3" type="revolute">
    <parent link="rh_rfknuckle"/>
    <child link="rh_rfproximal"/>
    <origin rpy="0 0 0" xyz="0 0 0"/>
    <axis xyz="1 0 0"/>
    <limit effort="2" lower="-0.261799387799" upper="1.57079632679" velocity="2.0"/>
    <dynamics damping="0.1"/>
  </joint>
  <gazebo reference="rh_RFJ3">
    <provideFeedback>1</provideFeedback>
    <implicitSpringDamper>1</implicitSpringDamper>
  </gazebo>
  <transmission name="rh_rfproximal_transmission">
    <type>sr_mechanism_model/SimpleTransmission</type>
    <actuator name="rh_RFJ3">
      <mechanicalReduction>1</mechanicalReduction>
    </actuator>
    <joint name="rh_RFJ3">
      <hardwareInterface>EffortJointInterface</hardwareInterface>
      <hardwareInterface>PositionJointInterface</hardwareInterface>
    </joint>
  </transmission>
  <!-- prefix can be anything but usually is "r_" or  "l_" for right and left hands distinction -->
  <gazebo reference="rh_rfproximal">
    <sensor name="rh_rfproximal_contact" type="contact">
      <always_on>1</always_on>
      <update_rate>1000.0</update_rate>
      <contact>
        <collision>rh_rfproximal_collision</collision>
        <topic>rh_rfproximal_collision</topic>
      </contact>
      <plugin filename="libgazebo_ros_bumper.so" name="rh_rfproximal_gazebo_ros_bumper_controller">
        <alwaysOn>true</alwaysOn>
        <frameName>rh_rfproximal</frameName>
        <updateRate>100.0</updateRate>
        <bumperTopicName>contacts/rh_rf/proximal</bumperTopicName>
      </plugin>
    </sensor>
    <selfCollide>true</selfCollide>
  </gazebo>
  <link name="rh_rfmiddle">
    <inertial>
      <origin rpy="0 0 0" xyz="0 0 0.0125"/>
      <mass value="0.017"/>
      <inertia ixx="0.0000026" ixy="0.0" ixz="0.0" iyy="0.0000027" iyz="0.0" izz="0.00000087"/>
    </inertial>
    <visual>
      <origin rpy="0 0 0" xyz="0 0 0"/>
      <geometry name="rh_rfmiddle_visual">
        <mesh filename="package://sr_description/meshes/hand/F2.stl" scale="0.001 0.001 0.001"/>
      </geometry>
      <material name="Grey"/>
    </visual>
    <collision>
      <origin rpy="0 0 0" xyz="0 0 0.0125"/>
      <geometry name="rh_rfmiddle_collision_geom">
        <cylinder length="0.025" radius="0.007"/>
      </geometry>
    </collision>
    <collision>
      <origin rpy="0 0 0" xyz="0 0 0.0"/>
      <geometry>
        <sphere radius="0.007"/>
      </geometry>
    </collision>
    <collision>
      <origin rpy="0 0 0" xyz="0 0 0.025"/>
      <geometry>
        <sphere radius="0.007"/>
      </geometry>
    </collision>
  </link>
  <joint name="rh_RFJ2" type="revolute">
    <parent link="rh_rfproximal"/>
    <child link="rh_rfmiddle"/>
    <origin rpy="0 0 0" xyz="0 0 0.045"/>
    <axis xyz="1 0 0"/>
    <limit effort="2" lower="0" upper="1.57079632679" velocity="2.0"/>
    <dynamics damping="0.1"/>
  </joint>
  <gazebo reference="rh_RFJ2">
    <provideFeedback>1</provideFeedback>
    <implicitSpringDamper>1</implicitSpringDamper>
  </gazebo>
  <transmission name="rh_rfmiddle_transmission">
    <type>sr_mechanism_model/J0Transmission</type>
    <actuator name="rh_RFJ0">
      <mechanicalReduction>1</mechanicalReduction>
    </actuator>
    <joint name="rh_RFJ1">
      <hardwareInterface>EffortJointInterface</hardwareInterface>
      <hardwareInterface>PositionJointInterface</hardwareInterface>
    </joint>
    <secondJoint name="rh_RFJ2"/>
  </transmission>
  <!-- prefix can be anything but usually is "r_" or  "l_" for right and left hands distinction -->
  <gazebo reference="rh_rfmiddle">
    <sensor name="rh_rfmiddle_contact" type="contact">
      <always_on>1</always_on>
      <update_rate>1000.0</update_rate>
      <contact>
        <collision>rh_rfmiddle_collision</collision>
        <topic>rh_rfmiddle_collision</topic>
      </contact>
      <plugin filename="libgazebo_ros_bumper.so" name="rh_rfproximal_gazebo_ros_bumper_controller">
        <alwaysOn>true</alwaysOn>
        <frameName>rh_rfmiddle</frameName>
        <updateRate>100.0</updateRate>
        <bumperTopicName>contacts/rh_rf/middle</bumperTopicName>
      </plugin>
    </sensor>
    <selfCollide>true</selfCollide>
  </gazebo>
  <link name="rh_rfdistal">
    <inertial>
      <mass value="0.012"/>
      <origin xyz="0 0 0.012"/>
      <inertia ixx="0.00000094" ixy="0.0" ixz="0.0" iyy="0.0000011" iyz="0.0" izz="0.00000053"/>
    </inertial>
    <visual>
      <origin rpy="0 0 0" xyz="0 0 0"/>
      <geometry name="rh_rfdistal_visual">
        <!-- Standard distal  -->
        <mesh filename="package://sr_description/meshes/hand/F1.stl" scale="0.001 0.001 0.001"/>
      </geometry>
      <!-- <material name="Grey" /> -->
    </visual>
    <collision>
      <origin rpy="0 0 0" xyz="0 0 0"/>
      <geometry name="rh_rfdistal_collision_geom">
        <!-- Standard distal  -->
        <mesh filename="package://sr_description/meshes/hand/F1.stl" scale="0.001 0.001 0.001"/>
      </geometry>
    </collision>
  </link>
  <joint name="rh_RFJ1" type="revolute">
    <parent link="rh_rfmiddle"/>
    <child link="rh_rfdistal"/>
    <origin rpy="0 0 0" xyz="0 0 0.025"/>
    <axis xyz="1 0 0"/>
    <!-- standard distal joint -->
    <limit effort="2" lower="0" upper="1.57079632679" velocity="2.0"/>
    <dynamics damping="0.1"/>
  </joint>
  <gazebo reference="rh_RFJ1">
    <provideFeedback>1</provideFeedback>
    <implicitSpringDamper>1</implicitSpringDamper>
  </gazebo>
  <link name="rh_rftip">
    <inertial>
      <mass value="0.001"/>
      <inertia ixx="0.0" ixy="0.0" ixz="0.0" iyy="0.0" iyz="0.0" izz="0.0"/>
    </inertial>
  </link>
  <joint name="rh_RFtip" type="fixed">
    <parent link="rh_rfdistal"/>
    <child link="rh_rftip"/>
    <origin rpy="0 0 0" xyz="0 0 0.026"/>
  </joint>
  <!-- prefix can be anything but usually is "r_" or  "l_" for right and left hands distinction -->
  <gazebo reference="rh_rfdistal">
    <sensor name="rh_rfdistal_contact" type="contact">
      <always_on>1</always_on>
      <update_rate>1000.0</update_rate>
      <contact>
        <collision>rh_rfdistal_collision</collision>
        <topic>rh_rfdistal_collision</topic>
      </contact>
      <plugin filename="libgazebo_ros_bumper.so" name="rh_rfdistal_gazebo_ros_bumper_controller">
        <alwaysOn>true</alwaysOn>
        <frameName>rh_rfdistal</frameName>
        <updateRate>100.0</updateRate>
        <bumperTopicName>contacts/rh_rf/distal</bumperTopicName>
      </plugin>
    </sensor>
    <mu1 value="500.0"/>
    <mu2 value="500.0"/>
    <kp value="10000000.0"/>
    <kd value="1.0"/>
    <selfCollide>true</selfCollide>
  </gazebo>
  <link name="rh_lfmetacarpal">
    <inertial>
      <origin rpy="0 0 0" xyz="0 0 0.04"/>
      <mass value="0.030"/>
      <inertia ixx="0.0000145" ixy="0.0" ixz="0.0" iyy="0.00001638" iyz="0.0" izz="0.000004272"/>
    </inertial>
    <visual>
      <origin rpy="0 0 0" xyz="0 0 0"/>
      <geometry name="rh_lfmetacarpal_visual">
        <mesh filename="package://sr_description/meshes/hand/lfmetacarpal.stl" scale="0.001 0.001 0.001"/>
      </geometry>
      <material name="Grey"/>
    </visual>
    <collision>
      <origin rpy="0 0 0" xyz="0 0 0.038"/>
      <geometry name="rh_lfmetacarpal_collision_geom">
        <box size="0.018 0.024 0.040"/>
      </geometry>
    </collision>
  </link>
  <joint name="rh_LFJ5" type="revolute">
    <parent link="rh_palm"/>
    <child link="rh_lfmetacarpal"/>
    <origin rpy="0 0 0" xyz="-0.033 0 0.02071"/>
    <axis xyz="0.573576436 0 0.819152044"/>
    <limit effort="2" lower="0" upper="0.785398163397" velocity="2.0"/>
    <dynamics damping="0.1"/>
  </joint>
  <gazebo reference="rh_LFJ5">
    <provideFeedback>1</provideFeedback>
    <implicitSpringDamper>1</implicitSpringDamper>
  </gazebo>
  <transmission name="rh_lfmetacarpal_transmission">
    <type>sr_mechanism_model/SimpleTransmission</type>
    <actuator name="rh_LFJ5">
      <mechanicalReduction>1</mechanicalReduction>
    </actuator>
    <joint name="rh_LFJ5">
      <hardwareInterface>EffortJointInterface</hardwareInterface>
      <hardwareInterface>PositionJointInterface</hardwareInterface>
    </joint>
  </transmission>
  <!-- prefix can be anything but usually is "r_" or  "l_" for right and left hands distinction -->
  <gazebo reference="rh_lfmetacarpal">
    <sensor name="rh_lfmetacarpal_contact" type="contact">
      <always_on>1</always_on>
      <update_rate>1000.0</update_rate>
      <contact>
        <collision>rh_lfmetacarpal_collision</collision>
        <topic>rh_lfmetacarpal_collision</topic>
      </contact>
      <plugin filename="libgazebo_ros_bumper.so" name="rh_lfmetacarpal_gazebo_ros_bumper_controller">
        <alwaysOn>true</alwaysOn>
        <frameName>rh_lfmetacarpal</frameName>
        <updateRate>100.0</updateRate>
        <bumperTopicName>contacts/rh_lf/metacarpal</bumperTopicName>
      </plugin>
    </sensor>
    <selfCollide>true</selfCollide>
  </gazebo>
  <link name="rh_lfknuckle">
    <inertial>
      <origin rpy="0 0 0" xyz="0 0 0"/>
      <mass value="0.008"/>
      <inertia ixx="0.00000026" ixy="0.0" ixz="0.0" iyy="0.00000026" iyz="0.0" izz="0.00000032"/>
    </inertial>
    <visual>
      <origin rpy="0 0 0" xyz="0 0 0.0005"/>
      <geometry name="rh_lfknuckle_visual">
        <mesh filename="package://sr_description/meshes/hand/knuckle.stl" scale="0.001 0.001 0.001"/>
      </geometry>
      <material name="LightGrey"/>
    </visual>
    <collision>
      <origin rpy="0 1.5708 0" xyz="0 0 0"/>
      <geometry name="rh_lfknuckle_collision_geom">
        <cylinder length="0.014" radius="0.007"/>
      </geometry>
    </collision>
  </link>
  <joint name="rh_LFJ4" type="revolute">
    <parent link="rh_lfmetacarpal"/>
    <child link="rh_lfknuckle"/>
    <!--<origin xyz="0.033 0 0.095" rpy="0 0 0" />-->
    <origin rpy="0 0 0" xyz="0 0 0.06579"/>
    <axis xyz="0 1.0 0"/>
    <limit effort="2" lower="-0.349065850399" upper="0.349065850399" velocity="2.0"/>
    <dynamics damping="0.1"/>
  </joint>
  <gazebo reference="rh_LFJ4">
    <provideFeedback>1</provideFeedback>
    <implicitSpringDamper>1</implicitSpringDamper>
  </gazebo>
  <transmission name="rh_lfknuckle_transmission">
    <type>sr_mechanism_model/SimpleTransmission</type>
    <actuator name="rh_LFJ4">
      <mechanicalReduction>1</mechanicalReduction>
    </actuator>
    <joint name="rh_LFJ4">
      <hardwareInterface>EffortJointInterface</hardwareInterface>
      <hardwareInterface>PositionJointInterface</hardwareInterface>
    </joint>
  </transmission>
  <!-- prefix can be anything but usually is "r_" or  "l_" for right and left hands distinction -->
  <gazebo reference="rh_lfknuckle">
    <sensor name="rh_lfknuckle_contact" type="contact">
      <always_on>1</always_on>
      <update_rate>1000.0</update_rate>
      <contact>
        <collision>rh_lfknuckle_collision</collision>
        <topic>rh_lfknuckle_collision</topic>
      </contact>
      <plugin filename="libgazebo_ros_bumper.so" name="rh_lfknuckle_gazebo_ros_bumper_controller">
        <alwaysOn>true</alwaysOn>
        <frameName>rh_lfknuckle</frameName>
        <updateRate>100.0</updateRate>
        <bumperTopicName>contacts/rh_lf/knuckle</bumperTopicName>
      </plugin>
    </sensor>
    <material>Gazebo/Grey</material>
  </gazebo>
  <link name="rh_lfproximal">
    <inertial>
      <mass value="0.030"/>
      <origin xyz="0 0 0.0225"/>
      <inertia ixx="0.0000098" ixy="0.0" ixz="0.0" iyy="0.00001" iyz="0.0" izz="0.0000018"/>
    </inertial>
    <visual>
      <origin rpy="0 0 0" xyz="0 0 0"/>
      <geometry name="rh_lfproximal_visual">
        <mesh filename="package://sr_description/meshes/hand/F3.stl" scale="0.001 0.001 0.001"/>
      </geometry>
      <material name="Grey"/>
    </visual>
    <collision>
      <origin rpy="0 0 0" xyz="0 0 0.025"/>
      <geometry name="rh_lfproximal_collision_geom">
        <cylinder length="0.040" radius="0.007"/>
      </geometry>
    </collision>
  </link>
  <joint name="rh_LFJ3" type="revolute">
    <parent link="rh_lfknuckle"/>
    <child link="rh_lfproximal"/>
    <origin rpy="0 0 0" xyz="0 0 0"/>
    <axis xyz="1 0 0"/>
    <limit effort="2" lower="-0.261799387799" upper="1.57079632679" velocity="2.0"/>
    <dynamics damping="0.1"/>
  </joint>
  <gazebo reference="rh_LFJ3">
    <provideFeedback>1</provideFeedback>
    <implicitSpringDamper>1</implicitSpringDamper>
  </gazebo>
  <transmission name="rh_lfproximal_transmission">
    <type>sr_mechanism_model/SimpleTransmission</type>
    <actuator name="rh_LFJ3">
      <mechanicalReduction>1</mechanicalReduction>
    </actuator>
    <joint name="rh_LFJ3">
      <hardwareInterface>EffortJointInterface</hardwareInterface>
      <hardwareInterface>PositionJointInterface</hardwareInterface>
    </joint>
  </transmission>
  <!-- prefix can be anything but usually is "r_" or  "l_" for right and left hands distinction -->
  <gazebo reference="rh_lfproximal">
    <sensor name="rh_lfproximal_contact" type="contact">
      <always_on>1</always_on>
      <update_rate>1000.0</update_rate>
      <contact>
        <collision>rh_lfproximal_collision</collision>
        <topic>rh_lfproximal_collision</topic>
      </contact>
      <plugin filename="libgazebo_ros_bumper.so" name="rh_lfproximal_gazebo_ros_bumper_controller">
        <alwaysOn>true</alwaysOn>
        <frameName>rh_lfproximal</frameName>
        <updateRate>100.0</updateRate>
        <bumperTopicName>contacts/rh_lf/proximal</bumperTopicName>
      </plugin>
    </sensor>
    <selfCollide>true</selfCollide>
  </gazebo>
  <link name="rh_lfmiddle">
    <inertial>
      <origin rpy="0 0 0" xyz="0 0 0.0125"/>
      <mass value="0.017"/>
      <inertia ixx="0.0000026" ixy="0.0" ixz="0.0" iyy="0.0000027" iyz="0.0" izz="0.00000087"/>
    </inertial>
    <visual>
      <origin rpy="0 0 0" xyz="0 0 0"/>
      <geometry name="rh_lfmiddle_visual">
        <mesh filename="package://sr_description/meshes/hand/F2.stl" scale="0.001 0.001 0.001"/>
      </geometry>
      <material name="Grey"/>
    </visual>
    <collision>
      <origin rpy="0 0 0" xyz="0 0 0.0125"/>
      <geometry name="rh_lfmiddle_collision_geom">
        <cylinder length="0.025" radius="0.007"/>
      </geometry>
    </collision>
    <collision>
      <origin rpy="0 0 0" xyz="0 0 0.0"/>
      <geometry>
        <sphere radius="0.007"/>
      </geometry>
    </collision>
    <collision>
      <origin rpy="0 0 0" xyz="0 0 0.025"/>
      <geometry>
        <sphere radius="0.007"/>
      </geometry>
    </collision>
  </link>
  <joint name="rh_LFJ2" type="revolute">
    <parent link="rh_lfproximal"/>
    <child link="rh_lfmiddle"/>
    <origin rpy="0 0 0" xyz="0 0 0.045"/>
    <axis xyz="1 0 0"/>
    <limit effort="2" lower="0" upper="1.57079632679" velocity="2.0"/>
    <dynamics damping="0.1"/>
  </joint>
  <gazebo reference="rh_LFJ2">
    <provideFeedback>1</provideFeedback>
    <implicitSpringDamper>1</implicitSpringDamper>
  </gazebo>
  <transmission name="rh_lfmiddle_transmission">
    <type>sr_mechanism_model/J0Transmission</type>
    <actuator name="rh_LFJ0">
      <mechanicalReduction>1</mechanicalReduction>
    </actuator>
    <joint name="rh_LFJ1">
      <hardwareInterface>EffortJointInterface</hardwareInterface>
      <hardwareInterface>PositionJointInterface</hardwareInterface>
    </joint>
    <secondJoint name="rh_LFJ2"/>
  </transmission>
  <!-- prefix can be anything but usually is "r_" or  "l_" for right and left hands distinction -->
  <gazebo reference="rh_lfmiddle">
    <sensor name="rh_lfmiddle_contact" type="contact">
      <always_on>1</always_on>
      <update_rate>1000.0</update_rate>
      <contact>
        <collision>rh_lfmiddle_collision</collision>
        <topic>rh_lfmiddle_collision</topic>
      </contact>
      <plugin filename="libgazebo_ros_bumper.so" name="rh_lfproximal_gazebo_ros_bumper_controller">
        <alwaysOn>true</alwaysOn>
        <frameName>rh_lfmiddle</frameName>
        <updateRate>100.0</updateRate>
        <bumperTopicName>contacts/rh_lf/middle</bumperTopicName>
      </plugin>
    </sensor>
    <selfCollide>true</selfCollide>
  </gazebo>
  <link name="rh_lfdistal">
    <inertial>
      <mass value="0.012"/>
      <origin xyz="0 0 0.012"/>
      <inertia ixx="0.00000094" ixy="0.0" ixz="0.0" iyy="0.0000011" iyz="0.0" izz="0.00000053"/>
    </inertial>
    <visual>
      <origin rpy="0 0 0" xyz="0 0 0"/>
      <geometry name="rh_lfdistal_visual">
        <!-- Standard distal  -->
        <mesh filename="package://sr_description/meshes/hand/F1.stl" scale="0.001 0.001 0.001"/>
      </geometry>
      <!-- <material name="Grey" /> -->
    </visual>
    <collision>
      <origin rpy="0 0 0" xyz="0 0 0"/>
      <geometry name="rh_lfdistal_collision_geom">
        <!-- Standard distal  -->
        <mesh filename="package://sr_description/meshes/hand/F1.stl" scale="0.001 0.001 0.001"/>
      </geometry>
    </collision>
  </link>
  <joint name="rh_LFJ1" type="revolute">
    <parent link="rh_lfmiddle"/>
    <child link="rh_lfdistal"/>
    <origin rpy="0 0 0" xyz="0 0 0.025"/>
    <axis xyz="1 0 0"/>
    <!-- standard distal joint -->
    <limit effort="2" lower="0" upper="1.57079632679" velocity="2.0"/>
    <dynamics damping="0.1"/>
  </joint>
  <gazebo reference="rh_LFJ1">
    <provideFeedback>1</provideFeedback>
    <implicitSpringDamper>1</implicitSpringDamper>
  </gazebo>
  <link name="rh_lftip">
    <inertial>
      <mass value="0.001"/>
      <inertia ixx="0.0" ixy="0.0" ixz="0.0" iyy="0.0" iyz="0.0" izz="0.0"/>
    </inertial>
  </link>
  <joint name="rh_LFtip" type="fixed">
    <parent link="rh_lfdistal"/>
    <child link="rh_lftip"/>
    <origin rpy="0 0 0" xyz="0 0 0.026"/>
  </joint>
  <!-- prefix can be anything but usually is "r_" or  "l_" for right and left hands distinction -->
  <gazebo reference="rh_lfdistal">
    <sensor name="rh_lfdistal_contact" type="contact">
      <always_on>1</always_on>
      <update_rate>1000.0</update_rate>
      <contact>
        <collision>rh_lfdistal_collision</collision>
        <topic>rh_lfdistal_collision</topic>
      </contact>
      <plugin filename="libgazebo_ros_bumper.so" name="rh_lfdistal_gazebo_ros_bumper_controller">
        <alwaysOn>true</alwaysOn>
        <frameName>rh_lfdistal</frameName>
        <updateRate>100.0</updateRate>
        <bumperTopicName>contacts/rh_lf/distal</bumperTopicName>
      </plugin>
    </sensor>
    <mu1 value="500.0"/>
    <mu2 value="500.0"/>
    <kp value="10000000.0"/>
    <kd value="1.0"/>
    <selfCollide>true</selfCollide>
  </gazebo>
  <link name="rh_thbase">
    <inertial>
      <mass value="0.010"/>
      <origin rpy="0 0 0" xyz="0 0 0"/>
      <inertia ixx="0.00000016" ixy="0.0" ixz="0.0" iyy="0.00000016" iyz="0.0" izz="0.00000016"/>
    </inertial>
    <visual>
      <origin rpy="0 0 0" xyz="0 0 0"/>
      <geometry name="rh_thbase_visual">
        <box size="0.001 0.001 0.001"/>
      </geometry>
      <material name="shadow_thbase_material">
        <color rgba="0.5 0.5 0.5 1.0"/>
      </material>
    </visual>
    <collision>
      <origin rpy="0 0 0" xyz="0 0 0"/>
      <geometry name="rh_thbase_collision_geom">
        <sphere radius="0.011"/>
      </geometry>
    </collision>
  </link>
  <joint name="rh_THJ5" type="revolute">
    <parent link="rh_palm"/>
    <child link="rh_thbase"/>
    <origin rpy="0 0.785398163397 0.0" xyz="0.034 -0.0085 0.029"/>
    <axis xyz="0 0 -1.0"/>
    <limit effort="5.0" lower="-1.0471975512" upper="1.0471975512" velocity="4.0"/>
    <dynamics damping="0.2"/>
  </joint>
  <gazebo reference="rh_THJ5">
    <provideFeedback>1</provideFeedback>
    <implicitSpringDamper>1</implicitSpringDamper>
  </gazebo>
  <transmission name="rh_thbase_transmission">
    <type>sr_mechanism_model/SimpleTransmission</type>
    <actuator name="rh_THJ5">
      <mechanicalReduction>1</mechanicalReduction>
    </actuator>
    <joint name="rh_THJ5">
      <hardwareInterface>EffortJointInterface</hardwareInterface>
      <hardwareInterface>PositionJointInterface</hardwareInterface>
    </joint>
  </transmission>
  <!-- prefix can be anything but usually is "r_" or  "l_" for right and left hands distinction -->
  <gazebo reference="rh_thbase">
    <sensor name="rh_thbase_contact" type="contact">
      <always_on>1</always_on>
      <update_rate>1000.0</update_rate>
      <contact>
        <collision>rh_thbase_collision</collision>
        <topic>rh_thbase_collision</topic>
      </contact>
      <plugin filename="libgazebo_ros_bumper.so" name="rh_thbase_gazebo_ros_bumper_controller">
        <alwaysOn>true</alwaysOn>
        <frameName>rh_thbase</frameName>
        <updateRate>100.0</updateRate>
        <bumperTopicName>contacts/rh_th/base</bumperTopicName>
      </plugin>
    </sensor>
    <selfCollide>false</selfCollide>
  </gazebo>
  <link name="rh_thproximal">
    <inertial>
      <mass value="0.040"/>
      <origin rpy="0 0 0" xyz="0 0 0.019"/>
      <inertia ixx="0.0000136" ixy="0.0" ixz="0.0" iyy="0.0000136" iyz="0.0" izz="0.00000313"/>
    </inertial>
    <visual>
      <origin rpy="0 0 0" xyz="0 0 0"/>
      <geometry name="rh_thproximal_visual">
        <mesh filename="package://sr_description/meshes/hand/TH3_z.stl" scale="0.001 0.001 0.001"/>
      </geometry>
      <material name="shadow_thproximal_material">
        <color rgba="0.2 0.2 0.2 1.0"/>
      </material>
    </visual>
    <collision>
      <origin rpy="0 0 0" xyz="0 0 0.020"/>
      <geometry name="rh_thproximal_collision_geom">
        <cylinder length="0.018" radius="0.012"/>
      </geometry>
    </collision>
  </link>
  <joint name="rh_THJ4" type="revolute">
    <parent link="rh_thbase"/>
    <child link="rh_thproximal"/>
    <origin rpy="0 0 0" xyz="0 0 0"/>
    <axis xyz="1.0 0 0"/>
    <limit effort="3" lower="0.0" upper="1.2217304764" velocity="4.0"/>
    <dynamics damping="0.2"/>
  </joint>
  <gazebo reference="rh_THJ4">
    <provideFeedback>1</provideFeedback>
    <implicitSpringDamper>1</implicitSpringDamper>
  </gazebo>
  <transmission name="rh_thproximal_transmission">
    <type>sr_mechanism_model/SimpleTransmission</type>
    <actuator name="rh_THJ4">
      <mechanicalReduction>1</mechanicalReduction>
    </actuator>
    <joint name="rh_THJ4">
      <hardwareInterface>EffortJointInterface</hardwareInterface>
      <hardwareInterface>PositionJointInterface</hardwareInterface>
    </joint>
  </transmission>
  <!-- prefix can be anything but usually is "r_" or  "l_" for right and left hands distinction -->
  <gazebo reference="rh_thproximal">
    <sensor name="rh_thproximal_contact" type="contact">
      <always_on>1</always_on>
      <update_rate>1000.0</update_rate>
      <contact>
        <collision>rh_thproximal_collision</collision>
        <topic>rh_thproximal_collision</topic>
      </contact>
      <plugin filename="libgazebo_ros_bumper.so" name="rh_thproximal_gazebo_ros_bumper_controller">
        <alwaysOn>true</alwaysOn>
        <frameName>rh_thproximal</frameName>
        <updateRate>100.0</updateRate>
        <bumperTopicName>contacts/rh_th/proximal</bumperTopicName>
      </plugin>
    </sensor>
    <selfCollide>false</selfCollide>
  </gazebo>
  <link name="rh_thhub">
    <inertial>
      <mass value="0.005"/>
      <origin rpy="0 0 0" xyz="0 0 0"/>
      <inertia ixx="0.000001" ixy="0.0" ixz="0.0" iyy="0.000001" iyz="0.0" izz="0.0000003"/>
    </inertial>
    <visual>
      <origin rpy="0 0 0" xyz="0 0 0"/>
      <geometry name="rh_thhub_visual">
        <box size="0.001 0.001 0.001"/>
      </geometry>
      <material name="shadow_thhub_material">
        <color rgba="0.7 0.7 0.7 1.0"/>
      </material>
    </visual>
    <collision>
      <origin rpy="0 0 0" xyz="0 0 0"/>
      <geometry name="rh_thhub_collision_geom">
        <sphere radius="0.010"/>
      </geometry>
    </collision>
  </link>
  <joint name="rh_THJ3" type="revolute">
    <parent link="rh_thproximal"/>
    <child link="rh_thhub"/>
    <origin rpy="0 0 0" xyz="0 0 0.038"/>
    <axis xyz="1 0 0"/>
    <limit effort="2.0" lower="-0.209439510239" upper="0.209439510239" velocity="4.0"/>
    <dynamics damping="0.2"/>
  </joint>
  <gazebo reference="rh_THJ3">
    <provideFeedback>1</provideFeedback>
    <implicitSpringDamper>1</implicitSpringDamper>
  </gazebo>
  <transmission name="rh_thhub_transmission">
    <type>sr_mechanism_model/SimpleTransmission</type>
    <actuator name="rh_THJ3">
      <mechanicalReduction>1</mechanicalReduction>
    </actuator>
    <joint name="rh_THJ3">
      <hardwareInterface>EffortJointInterface</hardwareInterface>
      <hardwareInterface>PositionJointInterface</hardwareInterface>
    </joint>
  </transmission>
  <!-- prefix can be anything but usually is "r_" or  "l_" for right and left hands distinction -->
  <gazebo reference="rh_thhub">
    <sensor name="rh_thhub_contact" type="contact">
      <always_on>1</always_on>
      <update_rate>1000.0</update_rate>
      <contact>
        <collision>rh_thhub_collision</collision>
        <topic>rh_thhub_collision</topic>
      </contact>
      <plugin filename="libgazebo_ros_bumper.so" name="rh_thhub_gazebo_ros_bumper_controller">
        <alwaysOn>true</alwaysOn>
        <frameName>rh_thhub</frameName>
        <updateRate>100.0</updateRate>
        <bumperTopicName>contacts/rh_th/hub</bumperTopicName>
      </plugin>
    </sensor>
    <selfCollide>true</selfCollide>
  </gazebo>
  <link name="rh_thmiddle">
    <inertial>
      <mass value="0.020"/>
      <origin rpy="0 0 0" xyz="0 0 0.016"/>
      <inertia ixx="0.0000051" ixy="0.0" ixz="0.0" iyy="0.0000051" iyz="0.0" izz="0.00000121"/>
    </inertial>
    <visual>
      <origin rpy="0 0 0" xyz="0 0 0"/>
      <geometry name="rh_thmiddle_visual">
        <mesh filename="package://sr_description/meshes/hand/TH2_z.stl" scale="0.001 0.001 0.001"/>
      </geometry>
      <material name="shadow_thmiddle_material">
        <color rgba="0.2 0.2 0.2 1.0"/>
      </material>
    </visual>
    <collision>
      <origin rpy="0 0 0" xyz="0 0 0.012"/>
      <geometry name="rh_thmiddle_collision_geom">
        <cylinder length="0.018" radius="0.011"/>
      </geometry>
    </collision>
    <collision>
      <origin rpy="0 0 0" xyz="0 0 0.019"/>
      <geometry>
        <sphere radius="0.011"/>
      </geometry>
    </collision>
  </link>
  <joint name="rh_THJ2" type="revolute">
    <parent link="rh_thhub"/>
    <child link="rh_thmiddle"/>
    <origin rpy="0 0 0" xyz="0 0 0"/>
    <axis xyz="0 -1 0"/>
    <limit effort="2.0" lower="-0.698131700798" upper="0.698131700798" velocity="2.0"/>
    <dynamics damping="0.1"/>
  </joint>
  <gazebo reference="rh_THJ2">
    <provideFeedback>1</provideFeedback>
    <implicitSpringDamper>1</implicitSpringDamper>
  </gazebo>
  <transmission name="rh_thmiddle_transmission">
    <type>sr_mechanism_model/SimpleTransmission</type>
    <actuator name="rh_THJ2">
      <mechanicalReduction>1</mechanicalReduction>
    </actuator>
    <joint name="rh_THJ2">
      <hardwareInterface>EffortJointInterface</hardwareInterface>
      <hardwareInterface>PositionJointInterface</hardwareInterface>
    </joint>
  </transmission>
  <!-- prefix can be anything but usually is "r_" or  "l_" for right and left hands distinction -->
  <gazebo reference="rh_thmiddle">
    <sensor name="rh_thmiddle_contact" type="contact">
      <always_on>1</always_on>
      <update_rate>1000.0</update_rate>
      <contact>
        <collision>rh_thmiddle_collision</collision>
        <topic>rh_thmiddle_collision</topic>
      </contact>
      <plugin filename="libgazebo_ros_bumper.so" name="rh_thmiddle_gazebo_ros_bumper_controller">
        <alwaysOn>true</alwaysOn>
        <frameName>rh_thmiddle</frameName>
        <updateRate>100.0</updateRate>
        <bumperTopicName>contacts/rh_th/middle</bumperTopicName>
      </plugin>
    </sensor>
    <selfCollide>true</selfCollide>
  </gazebo>
  <!-- common -->
  <link name="rh_thdistal">
    <inertial>
      <mass value="0.016"/>
      <origin rpy="0 0 0" xyz="0 0 0.01375"/>
      <inertia ixx="0.0000021" ixy="0.0" ixz="0.0" iyy="0.0000022" iyz="0.0" izz="0.000001"/>
    </inertial>
    <visual>
      <origin rpy="0 0 0" xyz="0 0 0"/>
      <geometry name="rh_thdistal_visual">
        <!-- Standard distal  -->
        <mesh filename="package://sr_description/meshes/hand/TH1_z.stl" scale="0.001 0.001 0.001"/>
      </geometry>
      <material name="shadow_thmiddle_material">
        <color rgba="0.2 0.2 0.2 1.0"/>
      </material>
    </visual>
    <collision>
      <origin rpy="0 0 0" xyz="0 0 0"/>
      <geometry name="rh_thmiddle_collision_geom">
        <!-- Standard distal  -->
        <mesh filename="package://sr_description/meshes/hand/TH1_z.stl" scale="0.001 0.001 0.001"/>
        <!--      <box size="0.015 0.015 0.015" /> -->
      </geometry>
    </collision>
  </link>
  <joint name="rh_THJ1" type="revolute">
    <parent link="rh_thmiddle"/>
    <child link="rh_thdistal"/>
    <origin rpy="0 0 -1.57079632679" xyz="0 0 0.032"/>
    <axis xyz="1 0 0"/>
    <limit effort="1.0" lower="-0.261799387799" upper="1.57079632679" velocity="4.0"/>
    <dynamics damping="0.2"/>
  </joint>
  <gazebo reference="rh_THJ1">
    <provideFeedback>1</provideFeedback>
    <implicitSpringDamper>1</implicitSpringDamper>
  </gazebo>
  <link name="rh_thtip">
    <inertial>
      <mass value="0.001"/>
      <inertia ixx="0.0" ixy="0.0" ixz="0.0" iyy="0.0" iyz="0.0" izz="0.0"/>
    </inertial>
  </link>
  <joint name="rh_thtip" type="fixed">
    <parent link="rh_thdistal"/>
    <child link="rh_thtip"/>
    <origin rpy="0 0 0" xyz="0 0 0.0275"/>
  </joint>
  <!-- prefix can be anything but usually is "r_" or  "l_" for right and left hands distinction -->
  <gazebo reference="rh_thdistal">
    <sensor name="rh_thdistal_contact" type="contact">
      <always_on>1</always_on>
      <update_rate>1000.0</update_rate>
      <contact>
        <collision>rh_thdistal_collision</collision>
        <topic>rh_thdistal_collision</topic>
      </contact>
      <plugin filename="libgazebo_ros_bumper.so" name="rh_thdistal_gazebo_ros_bumper_controller">
        <alwaysOn>true</alwaysOn>
        <frameName>rh_thdistal</frameName>
        <updateRate>100.0</updateRate>
        <bumperTopicName>contacts/rh_th/distal</bumperTopicName>
      </plugin>
    </sensor>
    <mu1 value="500.0"/>
    <mu2 value="500.0"/>
    <kp value="10000000.0"/>
    <kd value="1.0"/>
    <selfCollide>true</selfCollide>
  </gazebo>
  <transmission name="rh_thdistal_transmission">
    <type>sr_mechanism_model/SimpleTransmission</type>
    <actuator name="rh_THJ1">
      <mechanicalReduction>1</mechanicalReduction>
    </actuator>
    <joint name="rh_THJ1">
      <hardwareInterface>EffortJointInterface</hardwareInterface>
      <hardwareInterface>PositionJointInterface</hardwareInterface>
    </joint>
  </transmission>
</robot>
